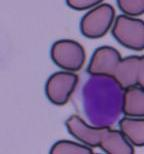L: (70, 74, 124, 128)
